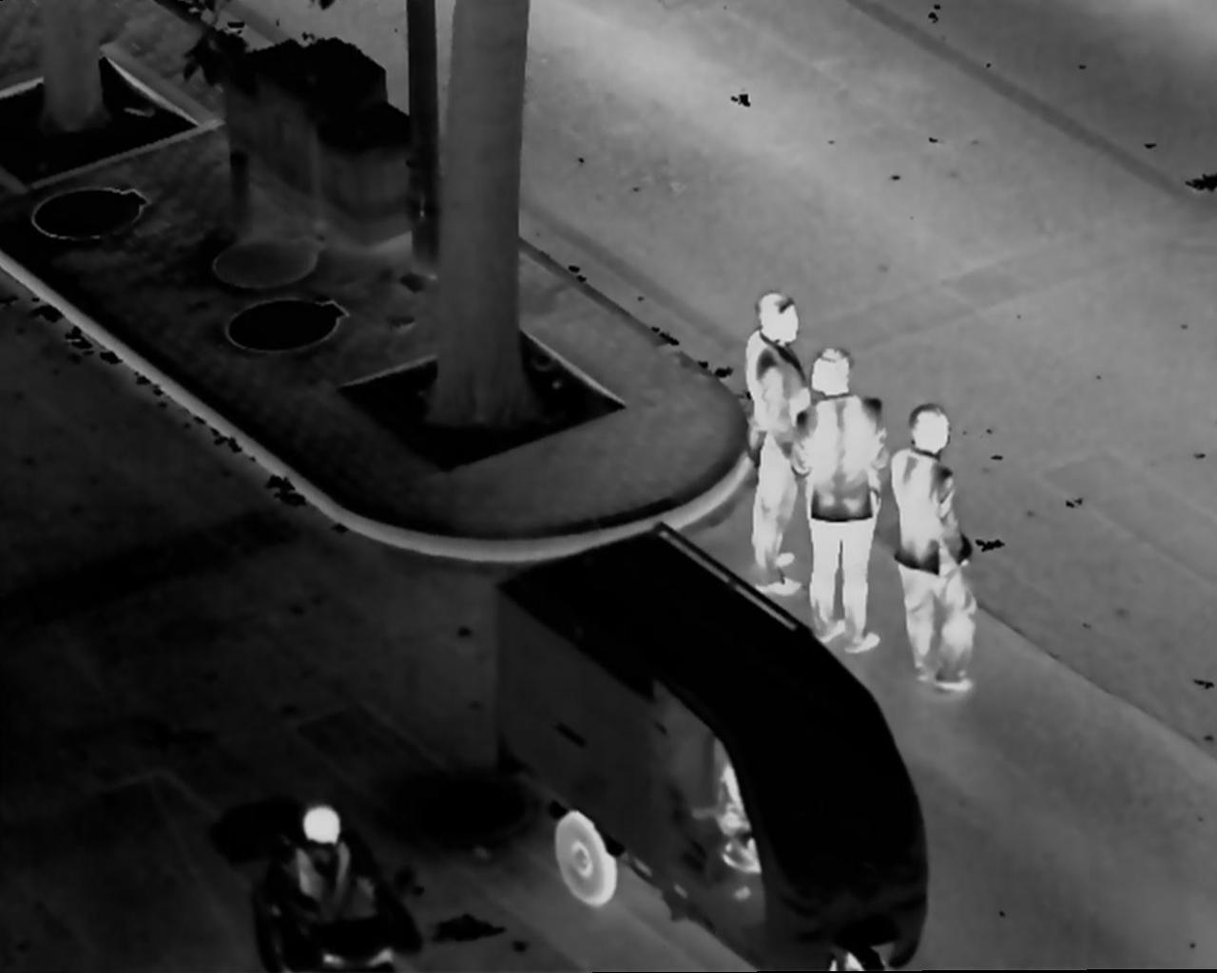person: (780, 343, 881, 658), (881, 392, 982, 692), (285, 793, 412, 972), (739, 282, 809, 593)
